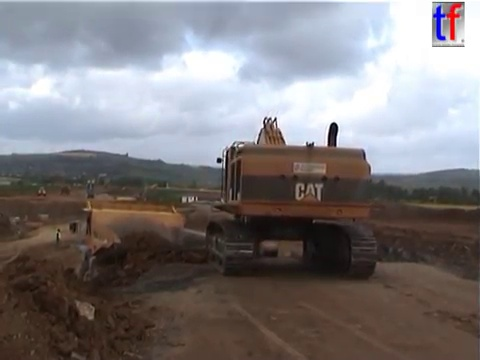excavator: (202, 114, 378, 280)
truck: (68, 198, 231, 297), (119, 200, 186, 237), (58, 183, 72, 196), (36, 185, 45, 197)
worker: (53, 226, 62, 249)
